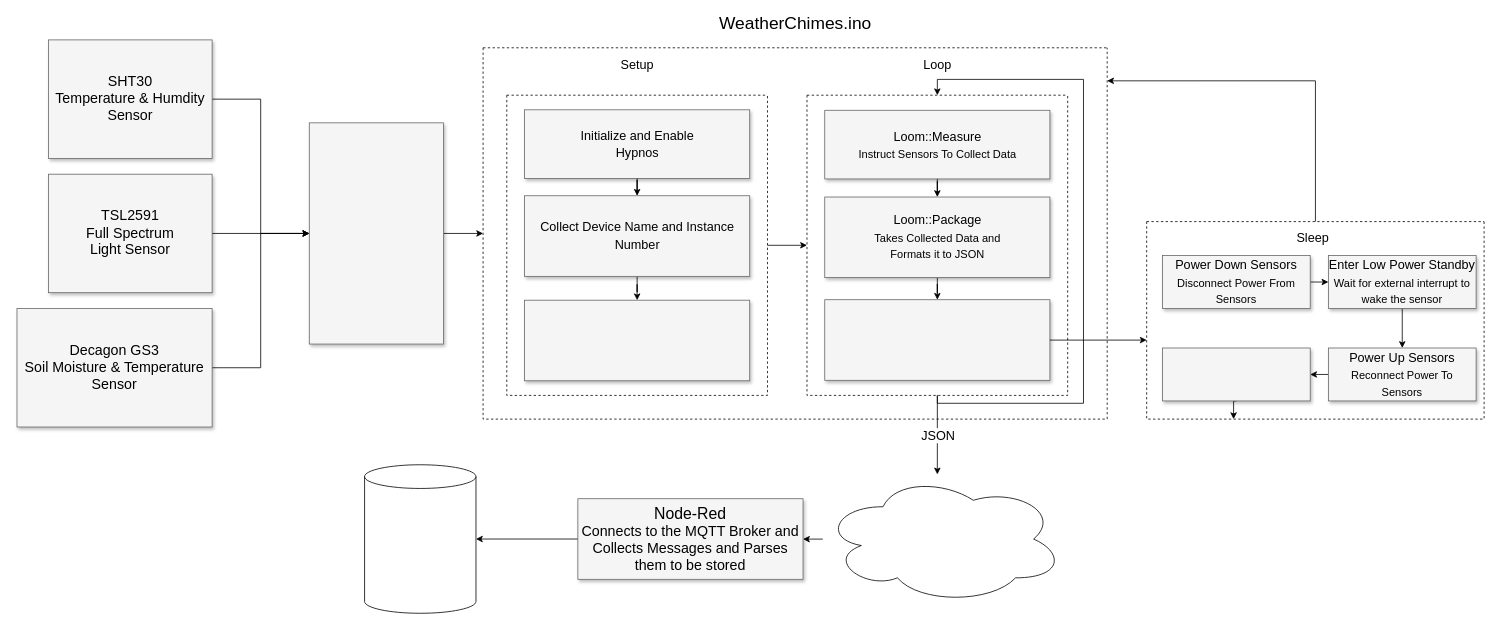
The diagram is 1499 pixels wide and 627 high, and some of its shapes have lost their labels. The shapes that lost their labels are listed below. From the top down, each one's centre as x and y in pixels, then its label:
At (x=376, y=234): "Arduino Feather M0".
At (x=637, y=341): "Format MQTT Topic With Instance Number and Device Name".
At (x=938, y=341): "Send MQTT Data Send JSON Data over the topic to an MQTT broker".
At (x=1237, y=375): "Reinitialize Sensors Restart Communication With Required Sensors".
At (x=420, y=538): "MongoDB Stores data for visualization or later use".
At (x=943, y=539): "MQTT Broker".
